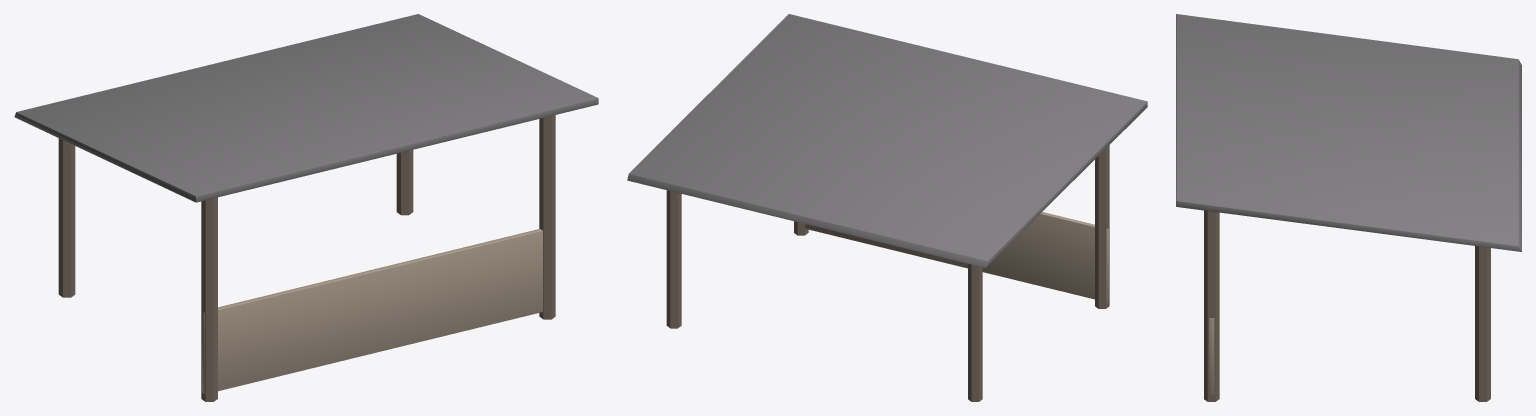
File: shed.gltf
The picture shows the model from 3 angles, left to right: view 1: azimuth 30°, elevation 25°; view 2: azimuth 150°, elevation 25°; view 3: azimuth 270°, elevation 25°; orthographic projection. The views are drawn at different scales.
Visible parts, largest first — view 1: Body; view 2: Body; view 3: Body.
Part boxes in pixels (bbox=[...]): Body: bbox=[14, 14, 598, 401]; Body: bbox=[627, 14, 1147, 401]; Body: bbox=[1176, 14, 1521, 401].
Size of the model in its own units: 6.2 by 3.3 by 4.85.
